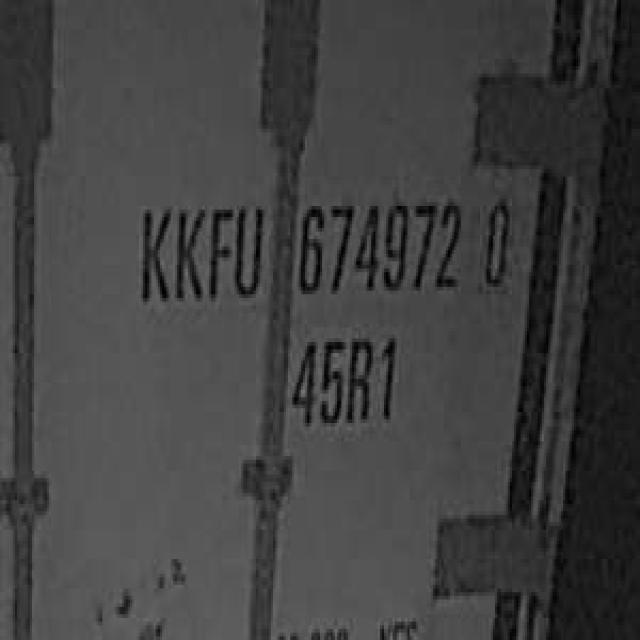dv: (478, 177, 514, 294)
owner: (132, 188, 267, 312)
serial: (290, 180, 465, 306)
size: (286, 320, 403, 438)
